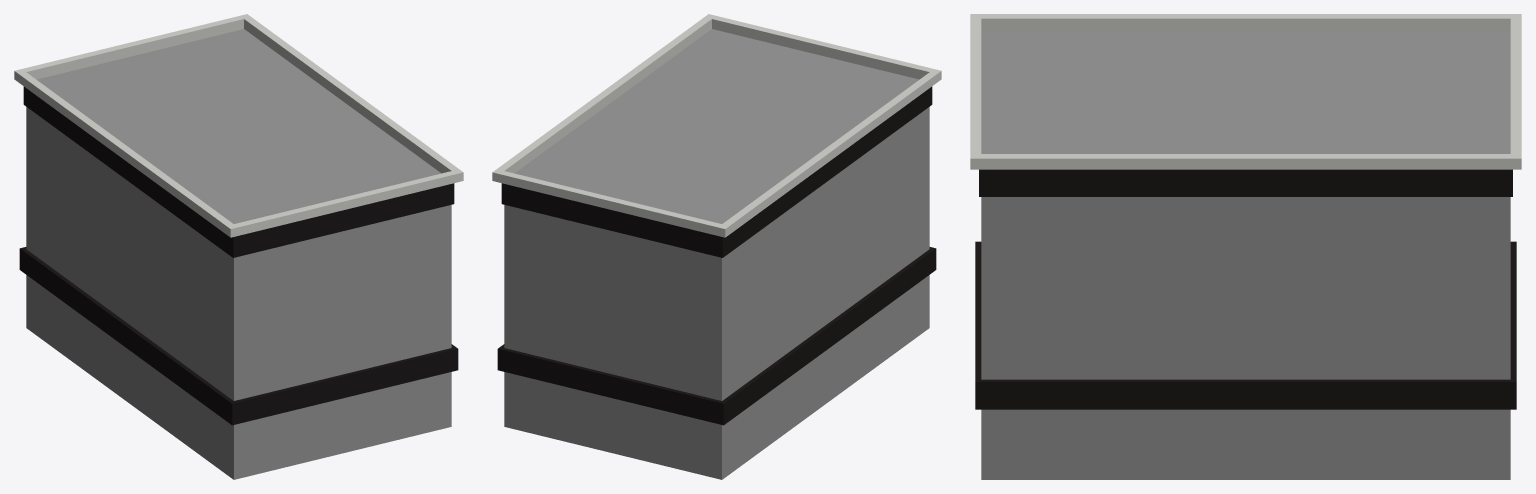
The model's file is SM_bld_block_04.fbx.
3 views of the same model, side by side, from view 1: azimuth 30°, elevation 25°; view 2: azimuth 150°, elevation 25°; view 3: azimuth 270°, elevation 25° (orthographic). The views are drawn at different scales.
Parts seen in each view (by area): view 1: bld_block_04; view 2: bld_block_04; view 3: bld_block_04.
Boxes of the visible parts, x1,y1,x2,y2 form: bld_block_04: (14, 14, 463, 479); bld_block_04: (492, 14, 941, 479); bld_block_04: (970, 14, 1521, 479).
Size of the model in its own units: 461 by 484 by 742.
